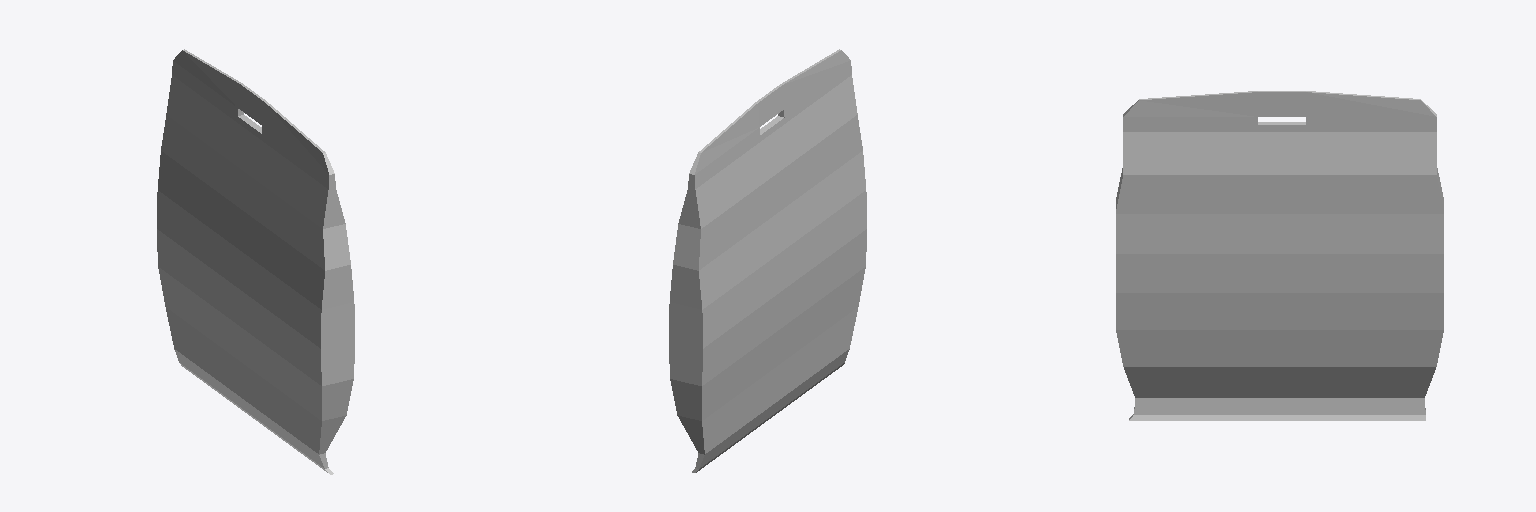
File: Sweets.obj
3 views of the same model, side by side, from view 1: azimuth 30°, elevation 25°; view 2: azimuth 150°, elevation 25°; view 3: azimuth 270°, elevation 25° (orthographic).
Parts seen in each view (by area): view 1: Cube; view 2: Cube; view 3: Cube.
Boxes of the visible parts, box(x1,y1,x2,y2) form: Cube: box(157, 49, 354, 474); Cube: box(669, 49, 866, 472); Cube: box(1116, 91, 1443, 420).
Size of the model in its own units: 0.9682 by 8.67 by 7.9.